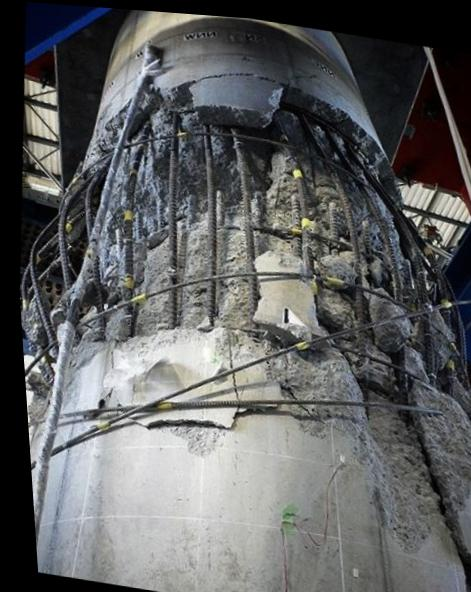exposed_rebar: (33, 44, 160, 545), (78, 271, 468, 388), (50, 323, 376, 454), (207, 133, 391, 202), (393, 214, 436, 385), (139, 398, 441, 416), (362, 186, 402, 301), (57, 168, 95, 288), (234, 137, 258, 322), (330, 173, 361, 285), (336, 348, 425, 382), (121, 148, 141, 294), (166, 112, 179, 328), (202, 124, 216, 276), (84, 168, 105, 238), (61, 405, 138, 424), (400, 301, 455, 318), (291, 168, 307, 218), (35, 233, 58, 263), (123, 135, 170, 148), (205, 278, 215, 325), (38, 259, 58, 281), (354, 289, 363, 321)
spalling: (22, 62, 471, 539)
